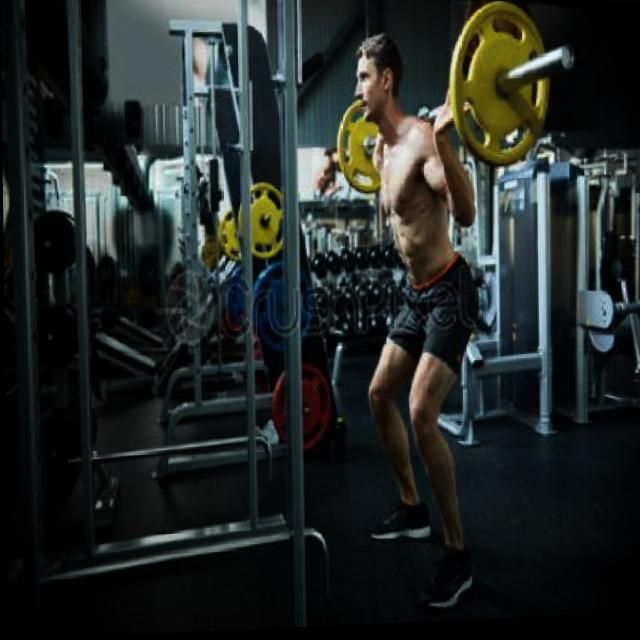barbell: (444, 3, 579, 180)
